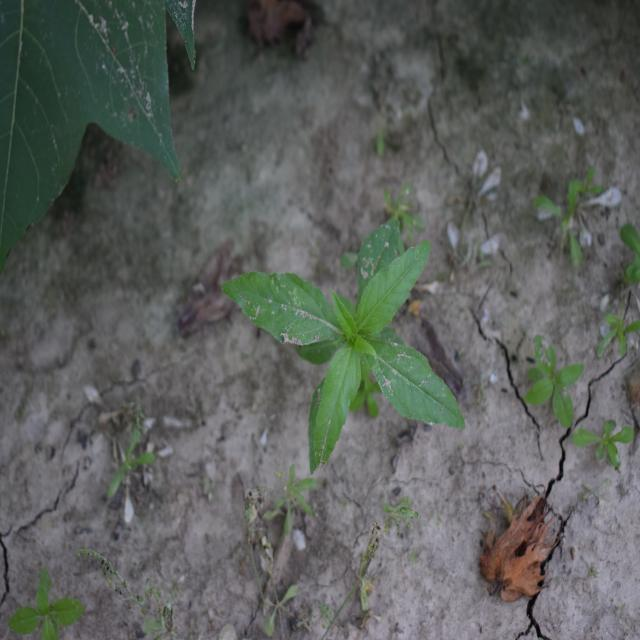Carpetweed: (531, 170, 624, 274)
Eclipta: (220, 218, 468, 478)
